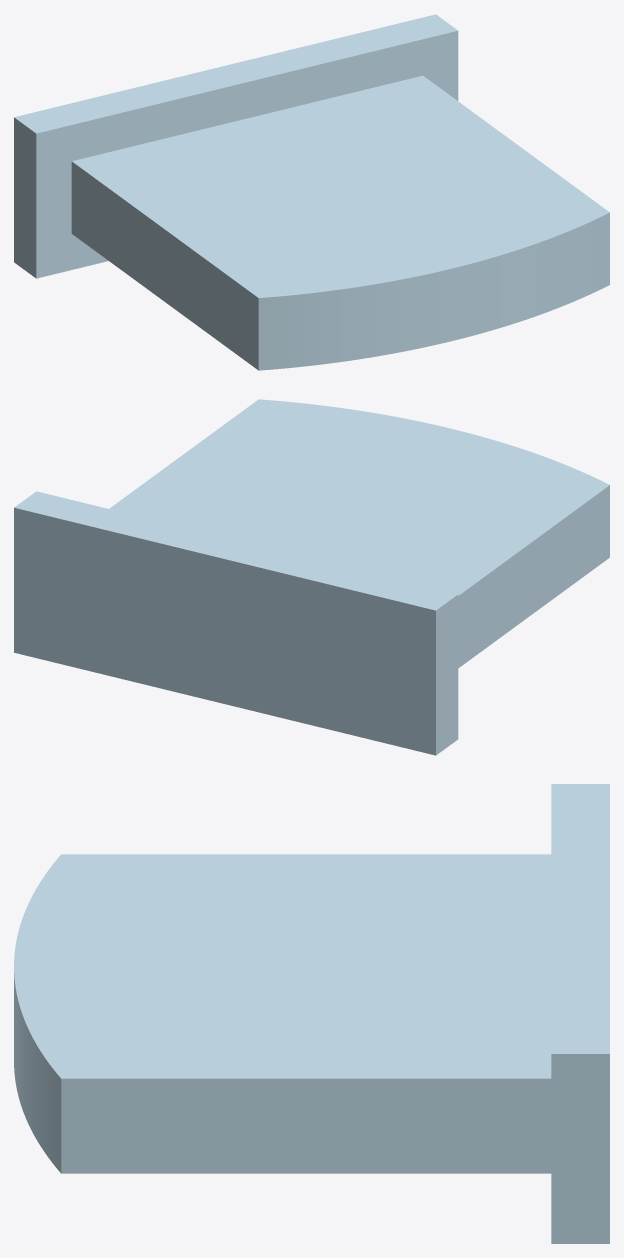
The picture shows the model from 3 angles, top to bottom: view 1: azimuth 30°, elevation 25°; view 2: azimuth 150°, elevation 25°; view 3: azimuth 270°, elevation 25°; orthographic projection. The views are drawn at different scales.
Visible parts, largest first — view 1: PA-18-F_LOD0; view 2: PA-18-F_LOD0; view 3: PA-18-F_LOD0.
Boxes of the visible parts, x1,y1,x2,y2 form: PA-18-F_LOD0: [14, 14, 609, 370]; PA-18-F_LOD0: [14, 399, 609, 755]; PA-18-F_LOD0: [14, 784, 609, 1243].
Size of what is drawn, in the model's own units: 124 by 40.64 by 116.
